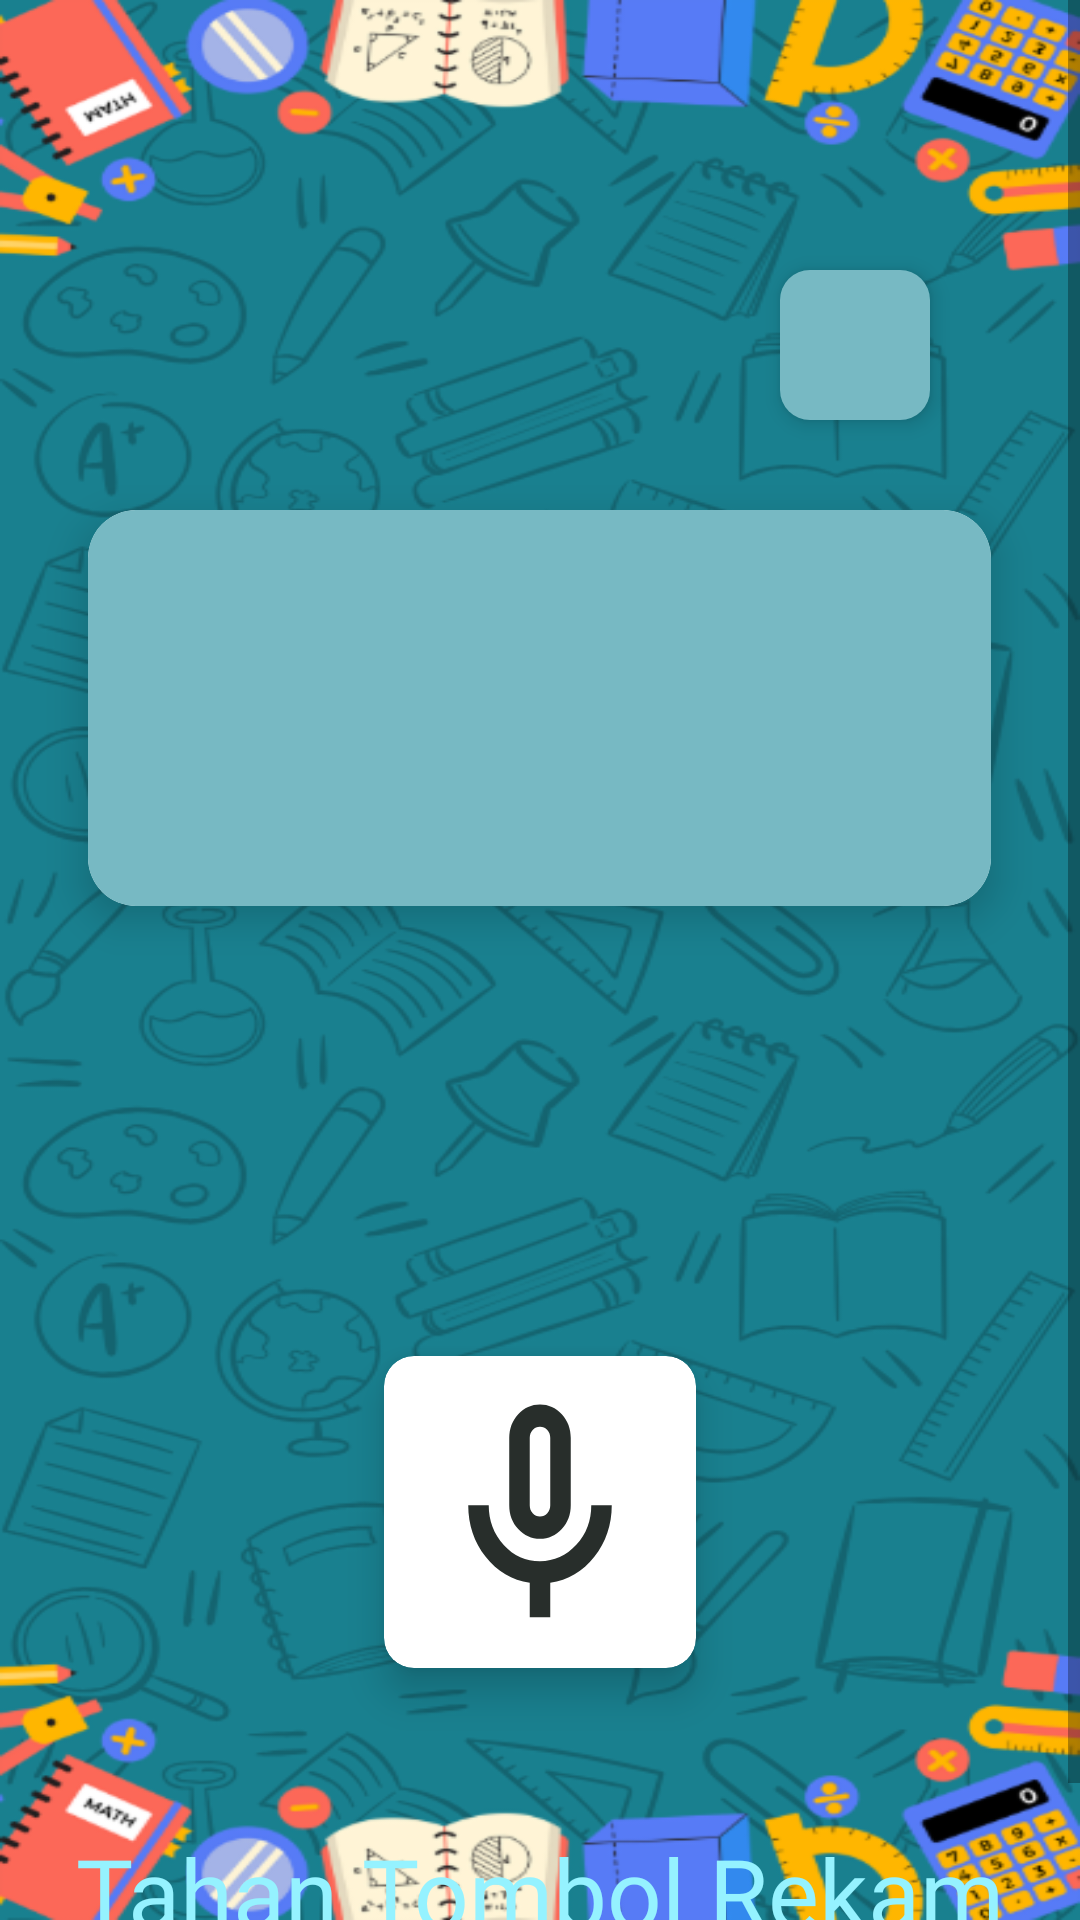

Named icons in this screenshot (1080px x 1920px) and their centers, (x=x, y=y):
record: (x=540, y=1512)
